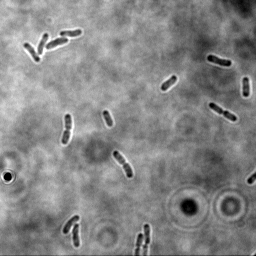Dividing: (110, 150, 135, 180), (207, 101, 238, 124), (60, 113, 74, 146), (140, 222, 151, 255), (133, 231, 145, 255)
Rod: (22, 42, 41, 64), (206, 53, 233, 68), (44, 36, 69, 52), (61, 215, 80, 236), (160, 74, 180, 92), (36, 32, 49, 56), (101, 109, 115, 129), (59, 28, 83, 39), (72, 223, 81, 249), (241, 76, 251, 98)
